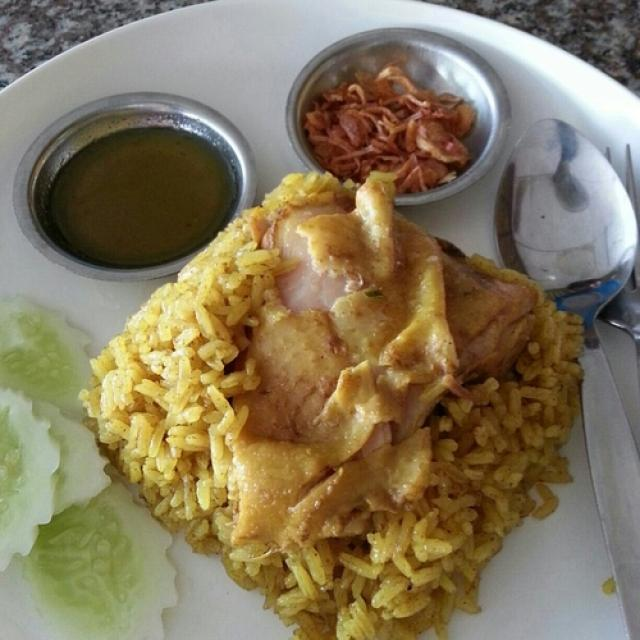米饭主食: (22, 42, 616, 618)
